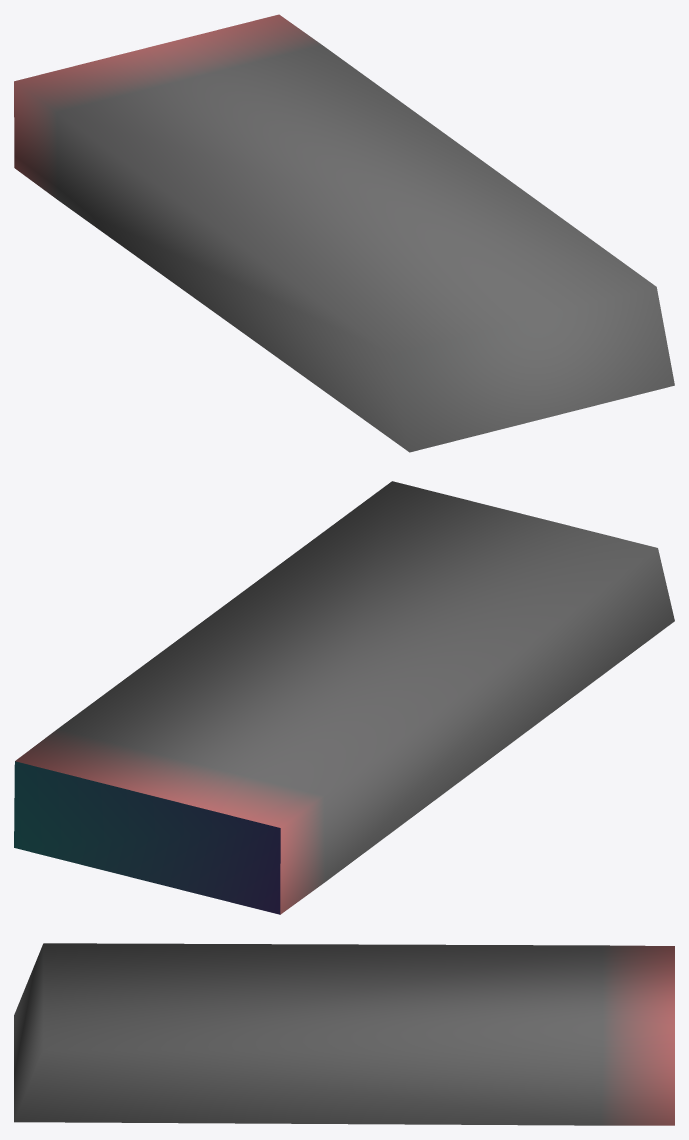
The model's file is Eff_Anton_Attack_EXQTE_plan_lc_001.fbx.
3 views of the same model, one above another, from view 1: azimuth 30°, elevation 25°; view 2: azimuth 150°, elevation 25°; view 3: azimuth 270°, elevation 25° (orthographic). The views are drawn at different scales.
Visible parts, largest first — view 1: Eff_Anton_Attack_EXQTE_plan_lc_001; view 2: Eff_Anton_Attack_EXQTE_plan_lc_001; view 3: Eff_Anton_Attack_EXQTE_plan_lc_001.
Boxes of the visible parts, x1,y1,x2,y2 form: Eff_Anton_Attack_EXQTE_plan_lc_001: [14, 14, 674, 452]; Eff_Anton_Attack_EXQTE_plan_lc_001: [14, 481, 674, 914]; Eff_Anton_Attack_EXQTE_plan_lc_001: [14, 943, 674, 1125].
Bounding box in the file's own units: 0.0463 × 0.0153 × 0.1185.
